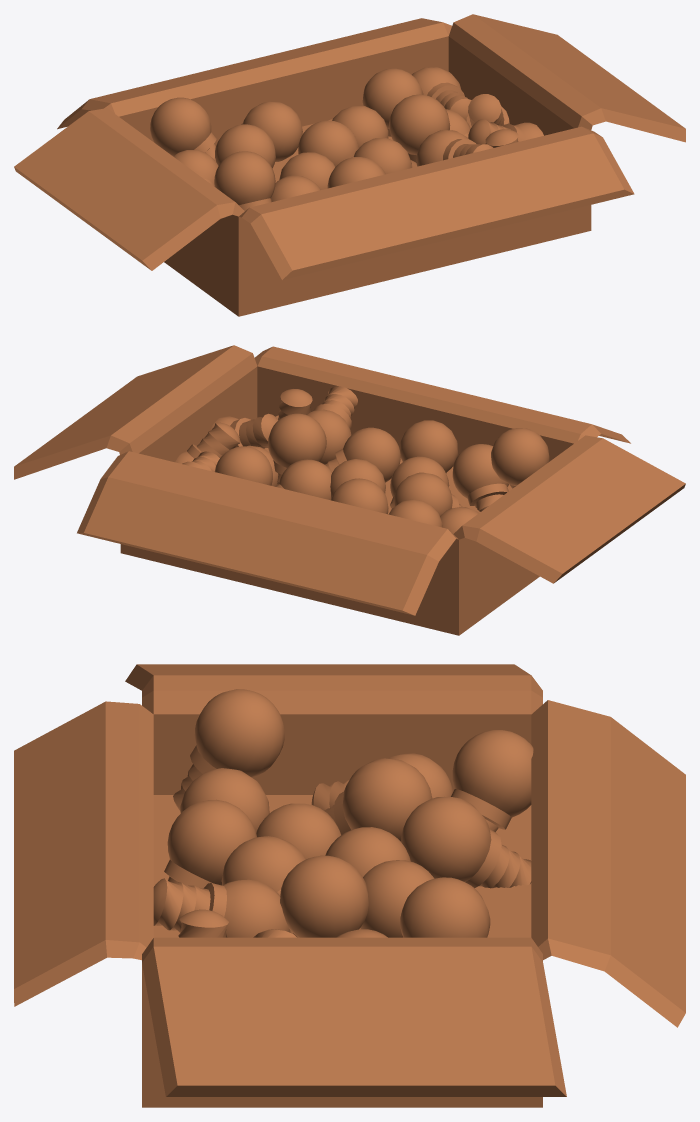
File: Box_Of_Lightbulbs.fbx
3 renders of one model, top to bottom at view 1: azimuth 30°, elevation 25°; view 2: azimuth 150°, elevation 25°; view 3: azimuth 270°, elevation 25°, orthographic. The views are drawn at different scales.
Parts seen in each view (by area): view 1: Box of Lamps; view 2: Box of Lamps; view 3: Box of Lamps.
Boxes of the visible parts, left/top/right/bottom form: Box of Lamps: left=14, top=14, right=685, bottom=316; Box of Lamps: left=14, top=345, right=685, bottom=635; Box of Lamps: left=14, top=664, right=685, bottom=1107.
Bounding box in the file's own units: 66.71 × 14.72 × 47.33.
